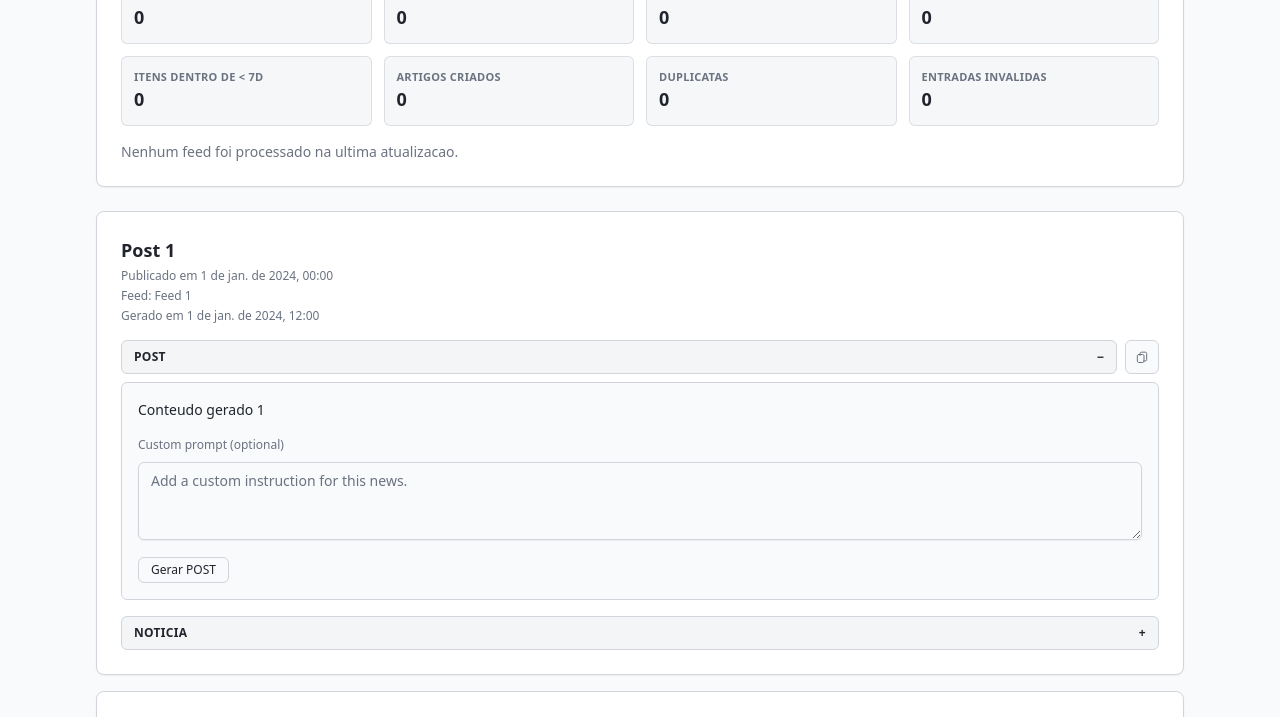
Scenario: PostsPage › copies the generated post content to the clipboard
The width and height of the screenshot is (1280, 717).
(page scrolled)
Click the button named "Copiar post". click: (1142, 357)
box: [1125, 340, 1159, 374]
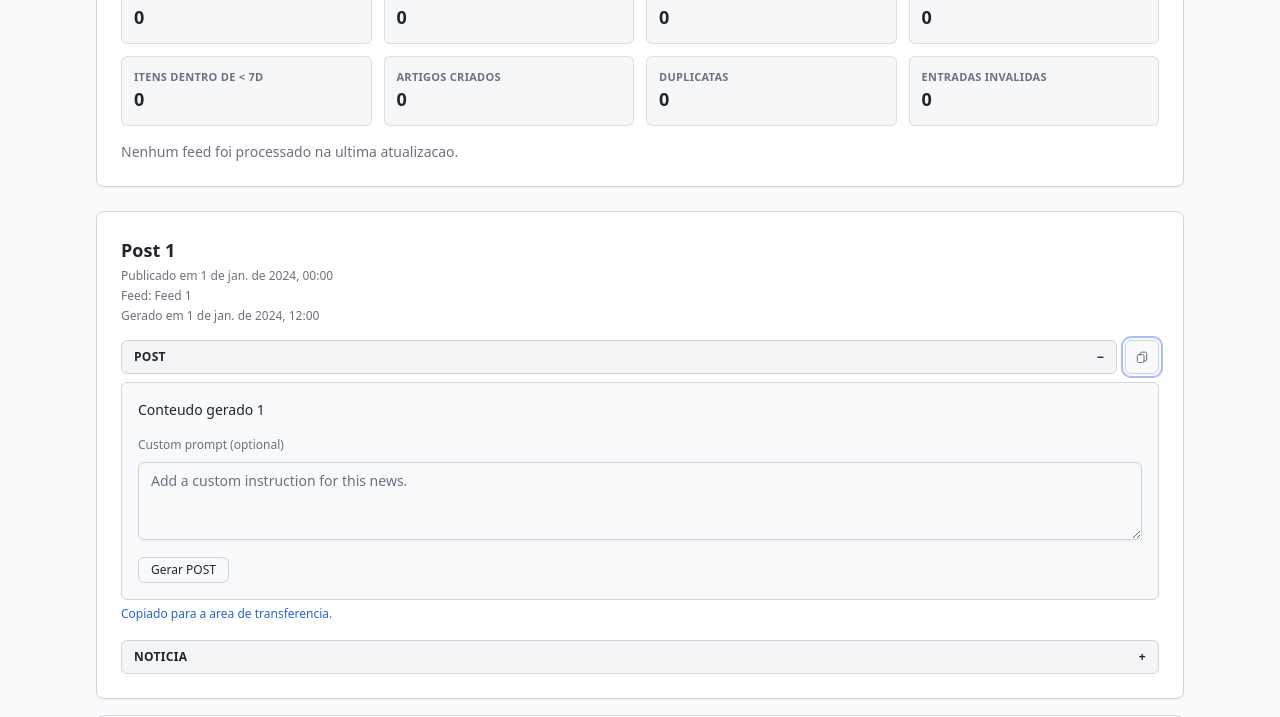
Result: the text "Copiado para a area de transferencia." is shown at [121, 605, 332, 622]
